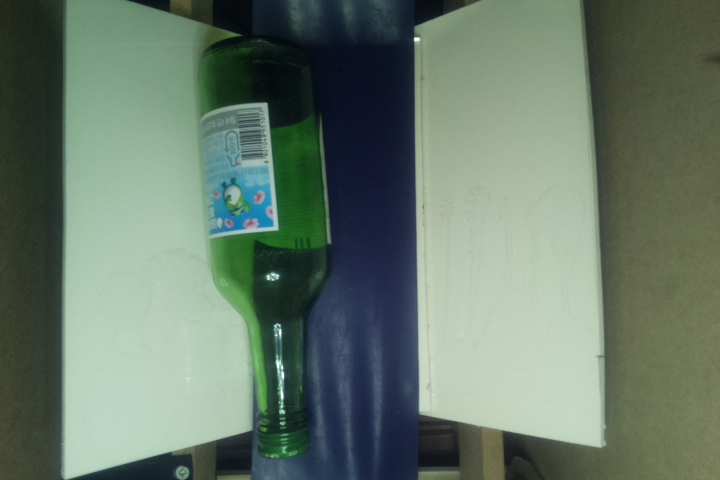soju: (193, 31, 334, 460)
